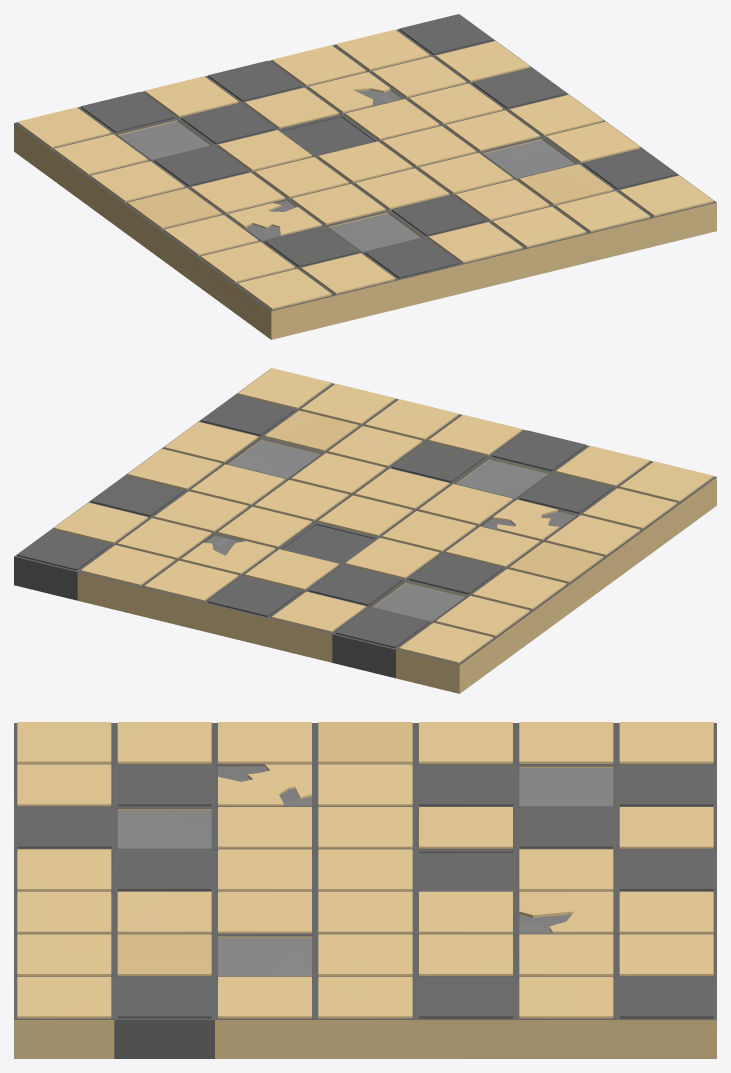
The model's file is floor_tile_2.obj.
3 views of the same model, one above another, from view 1: azimuth 30°, elevation 25°; view 2: azimuth 150°, elevation 25°; view 3: azimuth 270°, elevation 25° (orthographic). The views are drawn at different scales.
Parts seen in each view (by area): view 1: floor_tile_2_Mesh; view 2: floor_tile_2_Mesh; view 3: floor_tile_2_Mesh.
Part boxes in pixels (x1,y1,x2,y2): floor_tile_2_Mesh: [14, 14, 716, 339]; floor_tile_2_Mesh: [14, 368, 716, 693]; floor_tile_2_Mesh: [14, 722, 716, 1058].
Bounding box in the file's own units: 1.82 × 0.1179 × 1.82.
